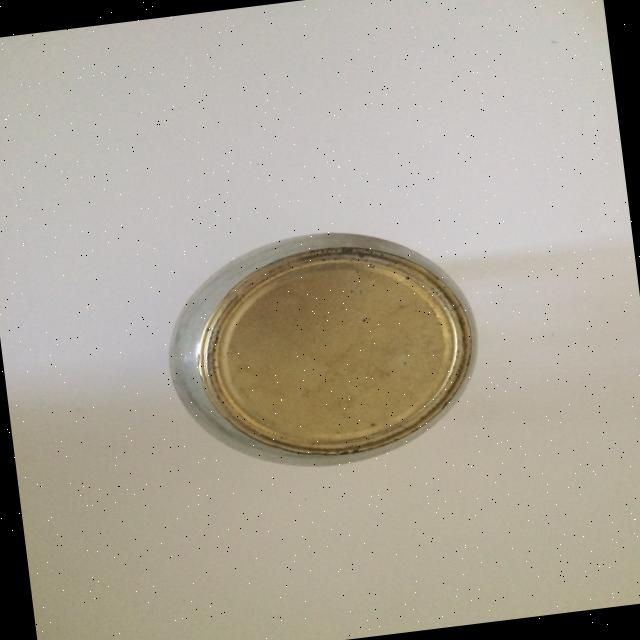glass: (155, 214, 490, 476)
